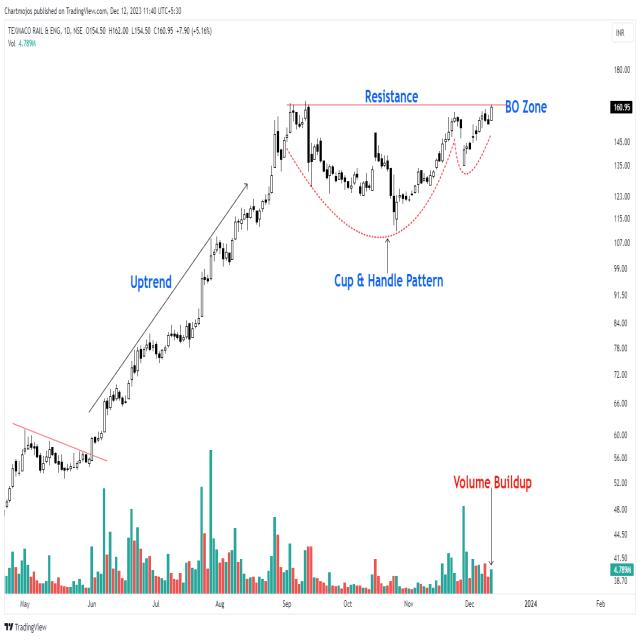Cup-and-handle: (302, 100, 501, 237)
